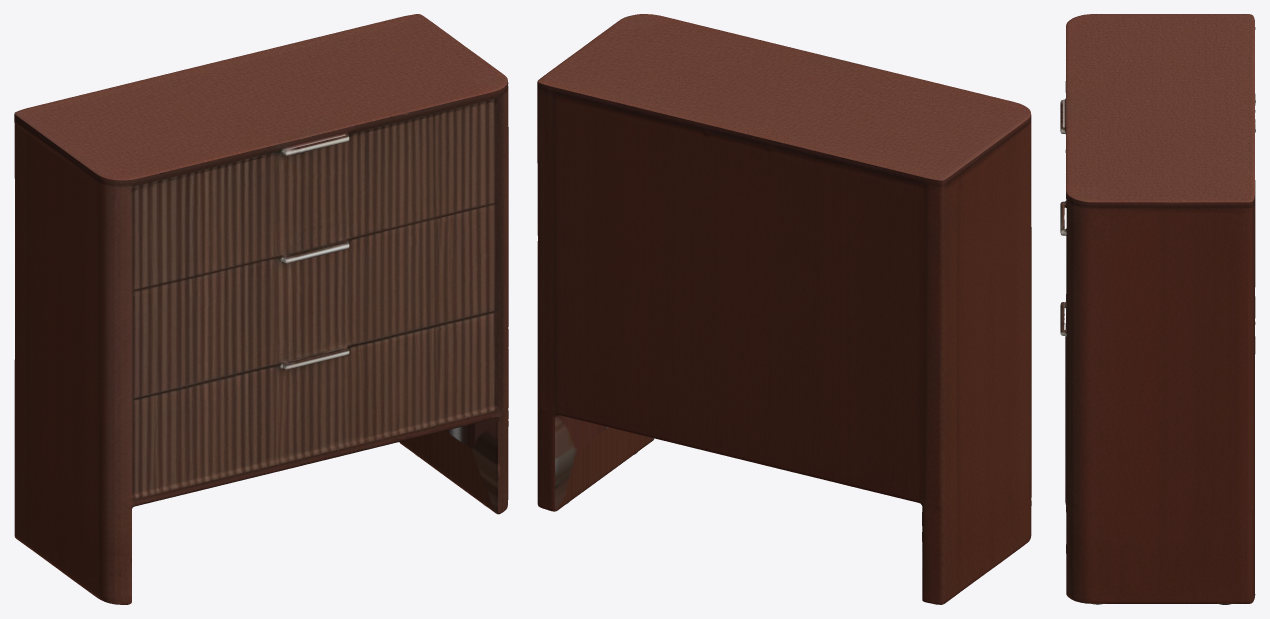
File: cabinet__cabinet#4.glb
3 renders of one model, left to right at view 1: azimuth 30°, elevation 25°; view 2: azimuth 150°, elevation 25°; view 3: azimuth 270°, elevation 25°, orthographic. The views are drawn at different scales.
Parts seen in each view (by area): view 1: tmp73qh54za.ply; view 2: tmp73qh54za.ply; view 3: tmp73qh54za.ply.
Part boxes in pixels (bbox=[...]): tmp73qh54za.ply: bbox=[14, 14, 508, 604]; tmp73qh54za.ply: bbox=[537, 14, 1031, 604]; tmp73qh54za.ply: bbox=[1060, 14, 1255, 604].
Size of the model in its own units: 1.98 by 1.99 by 0.8669.
1 material, 1 textured.
